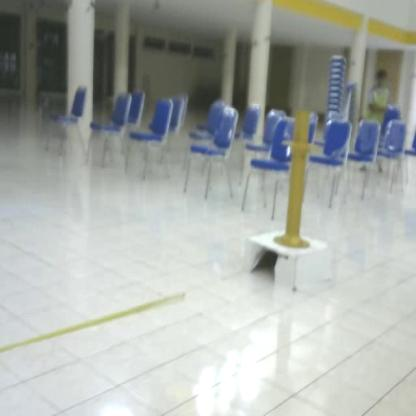pole: (274, 105, 320, 257)
